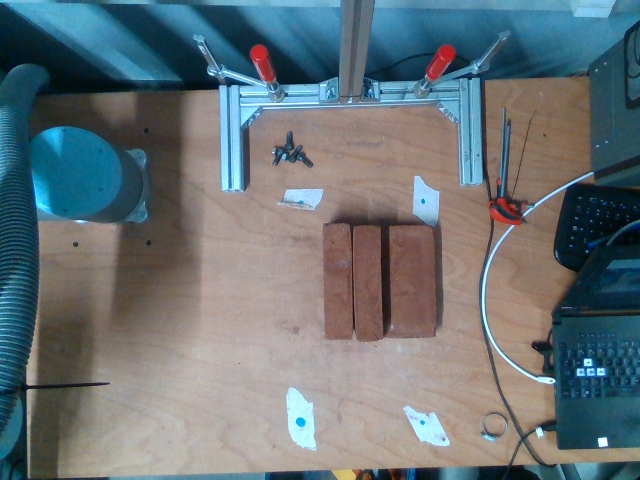brick: (383, 226, 438, 337)
brick-side: (322, 224, 352, 338), (353, 225, 379, 339)
